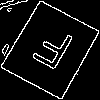F: (25, 24, 77, 80)
